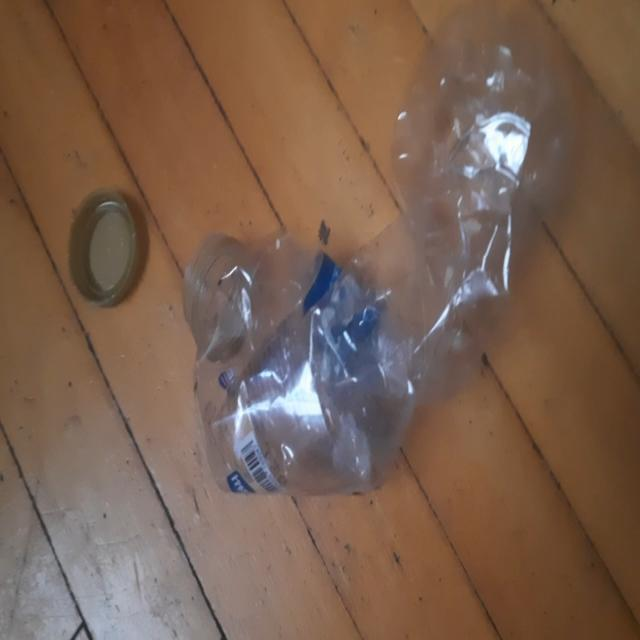Plastic: (192, 6, 547, 497)
